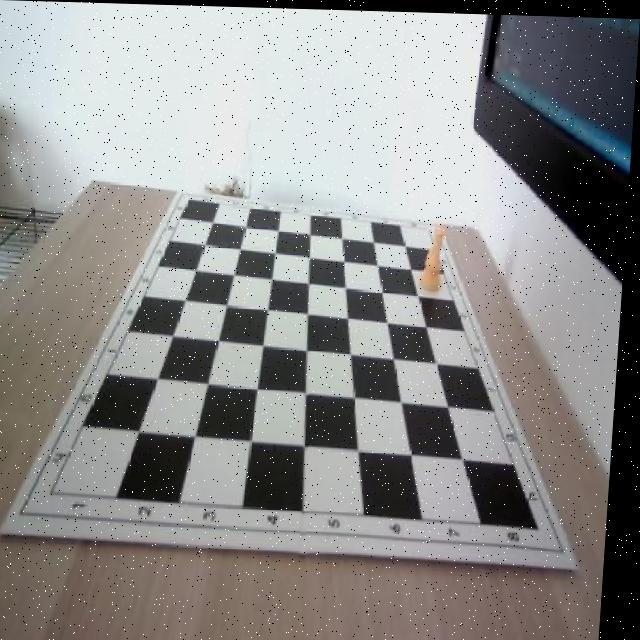white-king: (422, 219, 449, 291)
